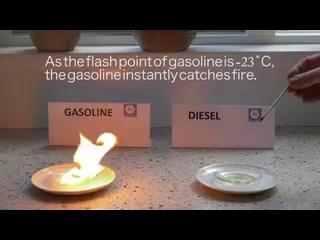Fire: (54, 114, 104, 187)
